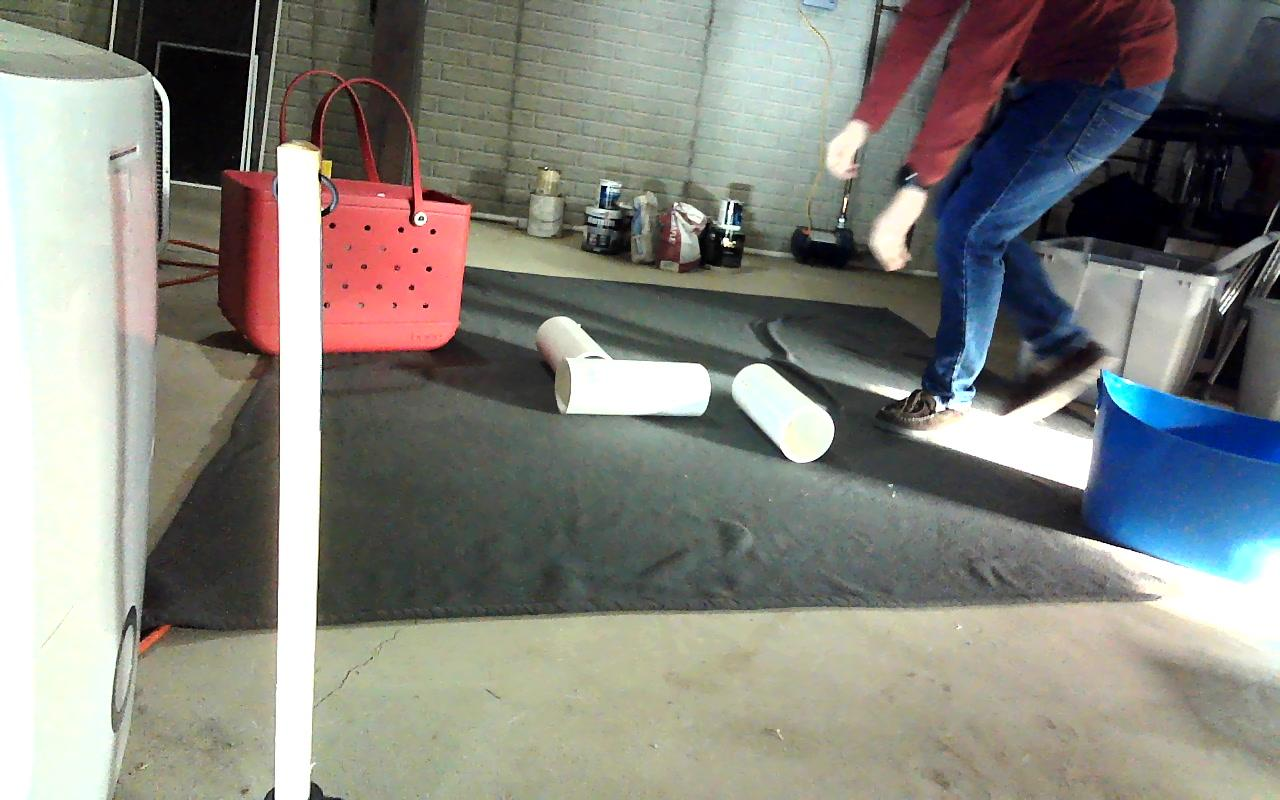coral: (731, 363, 834, 463), (555, 356, 710, 417), (538, 316, 607, 386)
